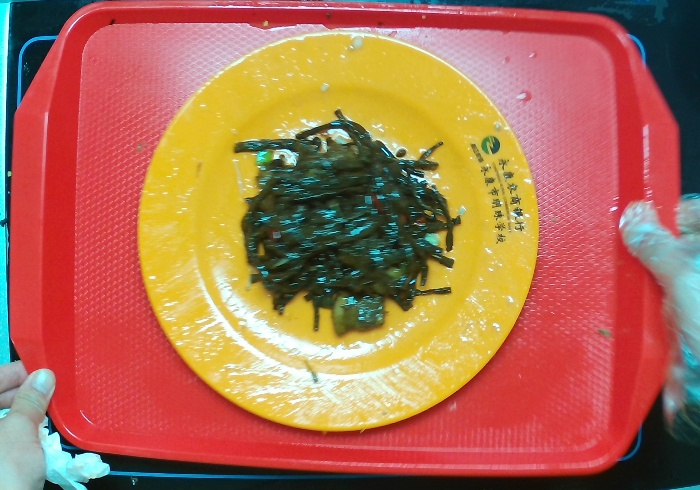YKMZ-Ju_Se_Mian_Pan: (134, 29, 542, 434)
